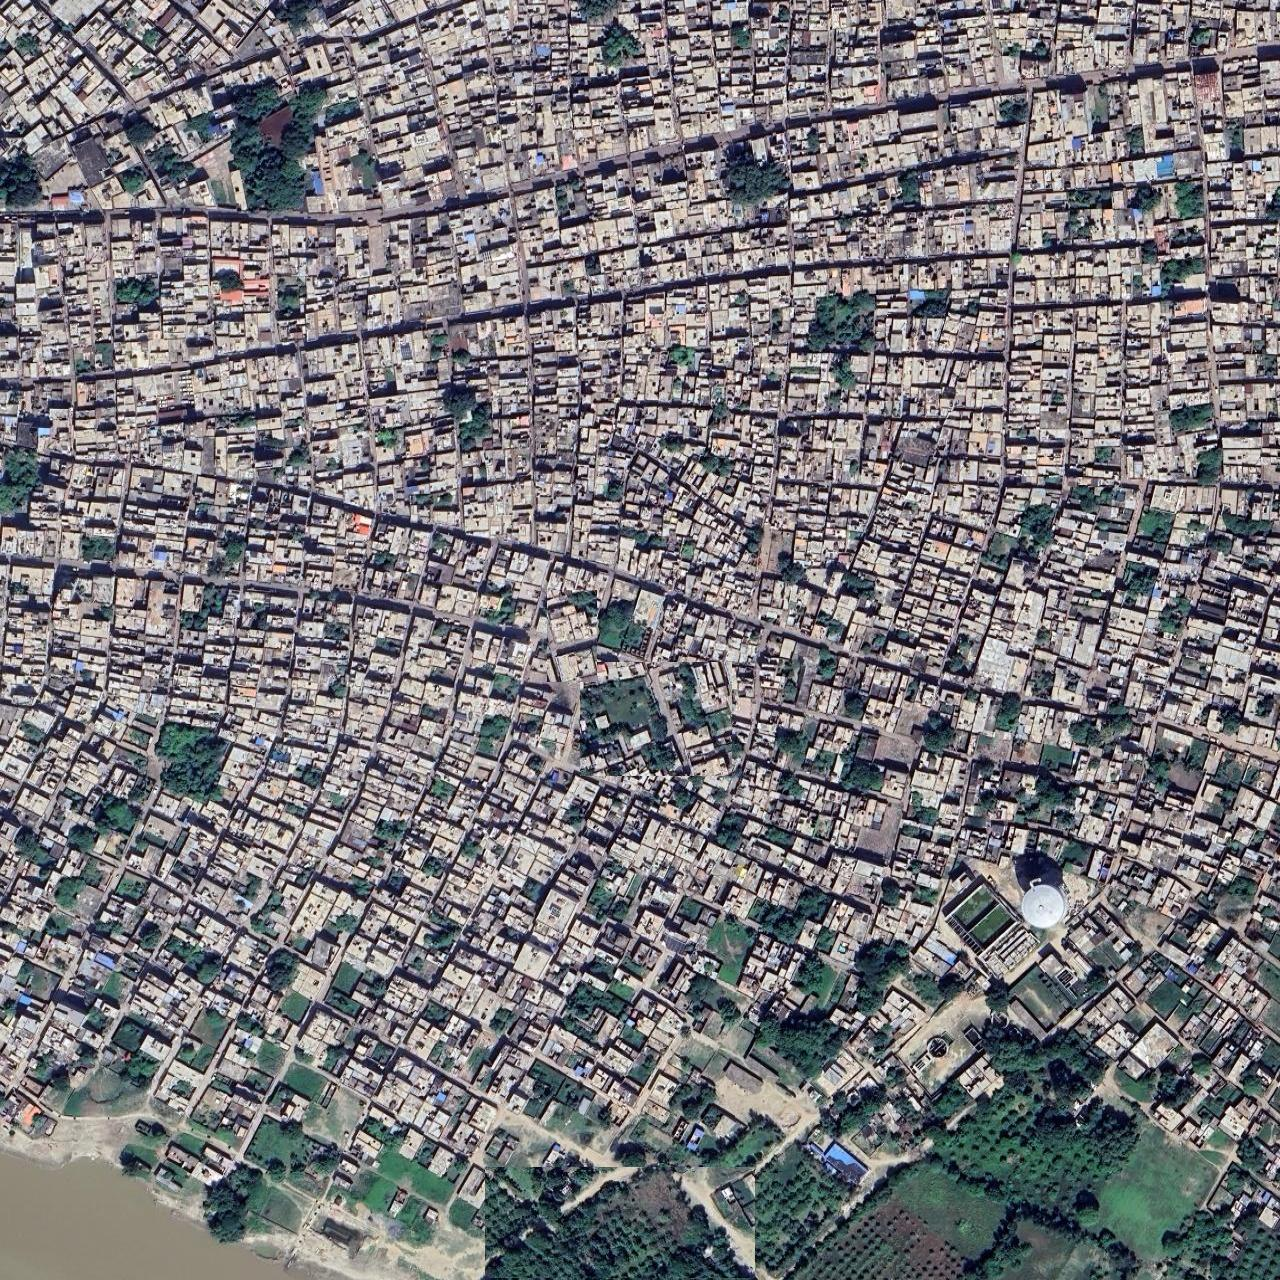greenery: (697, 1090, 1280, 1280), (485, 1167, 755, 1278)
house: (0, 420, 560, 1268), (685, 635, 1280, 1280), (567, 402, 1280, 701), (5, 373, 570, 546), (520, 790, 710, 1145), (580, 663, 731, 776), (549, 591, 597, 682), (598, 598, 651, 659)
water: (0, 1152, 287, 1280)
